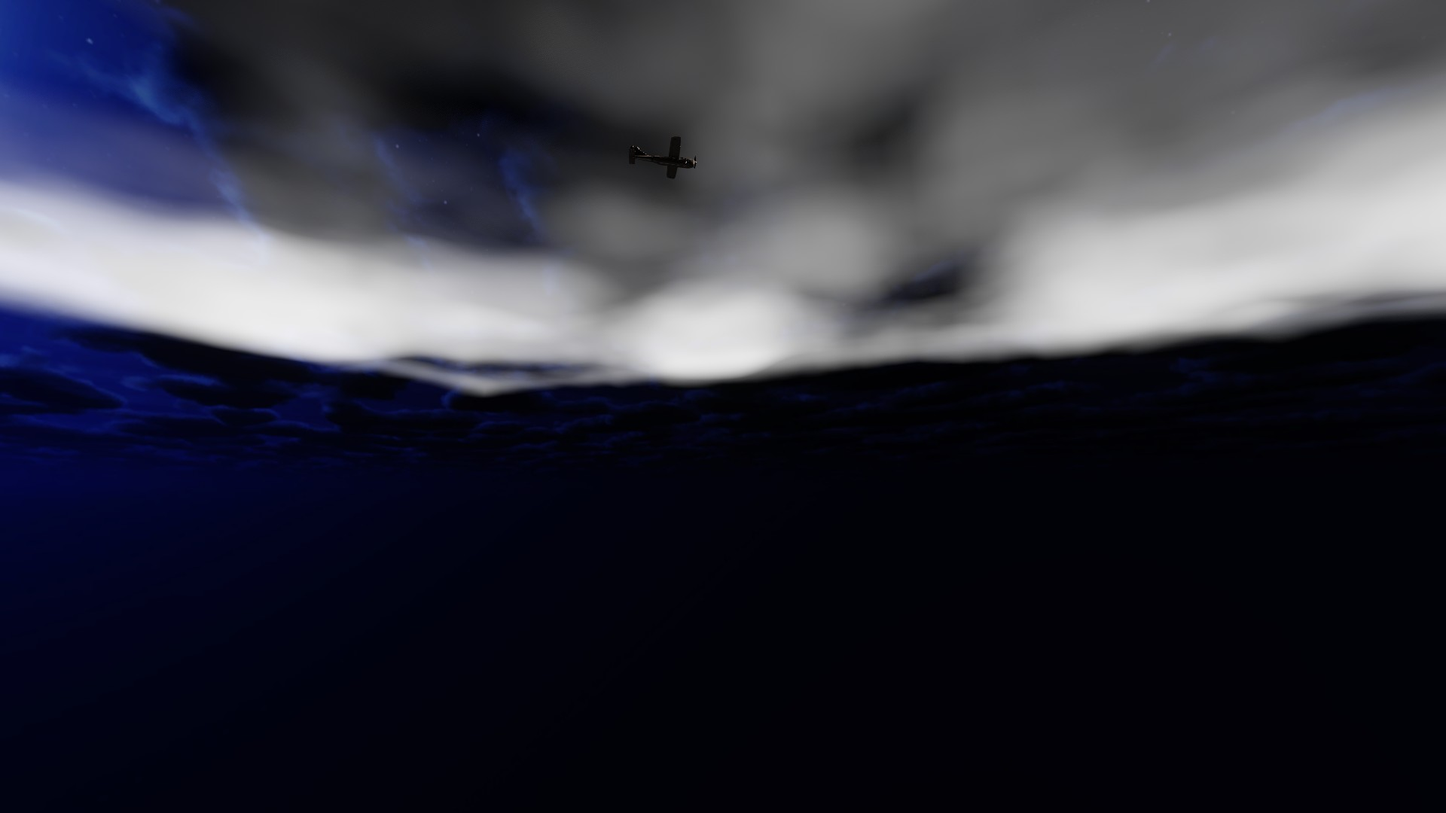drone_other: (629, 136, 697, 179)
